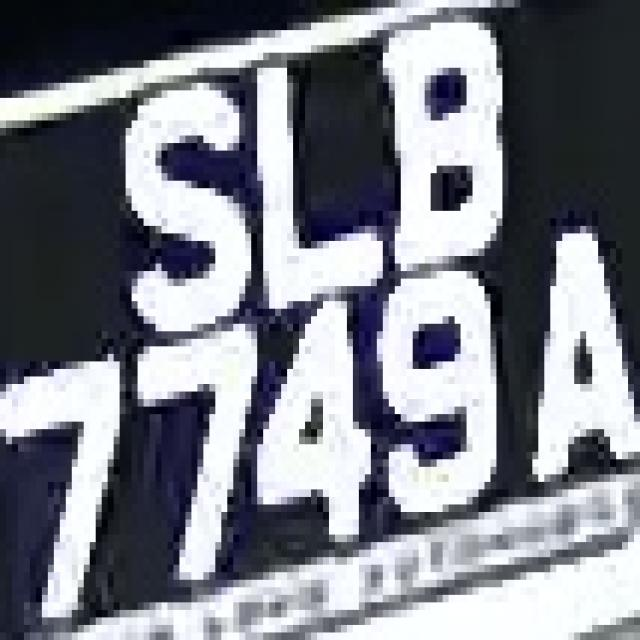4: (251, 271, 395, 550)
7: (144, 316, 281, 618), (12, 339, 144, 640)
9: (359, 271, 502, 527)
A: (528, 219, 640, 468), (5, 2, 6, 6)
B: (353, 8, 520, 286)
L: (245, 30, 383, 301)
S: (114, 76, 245, 347)
